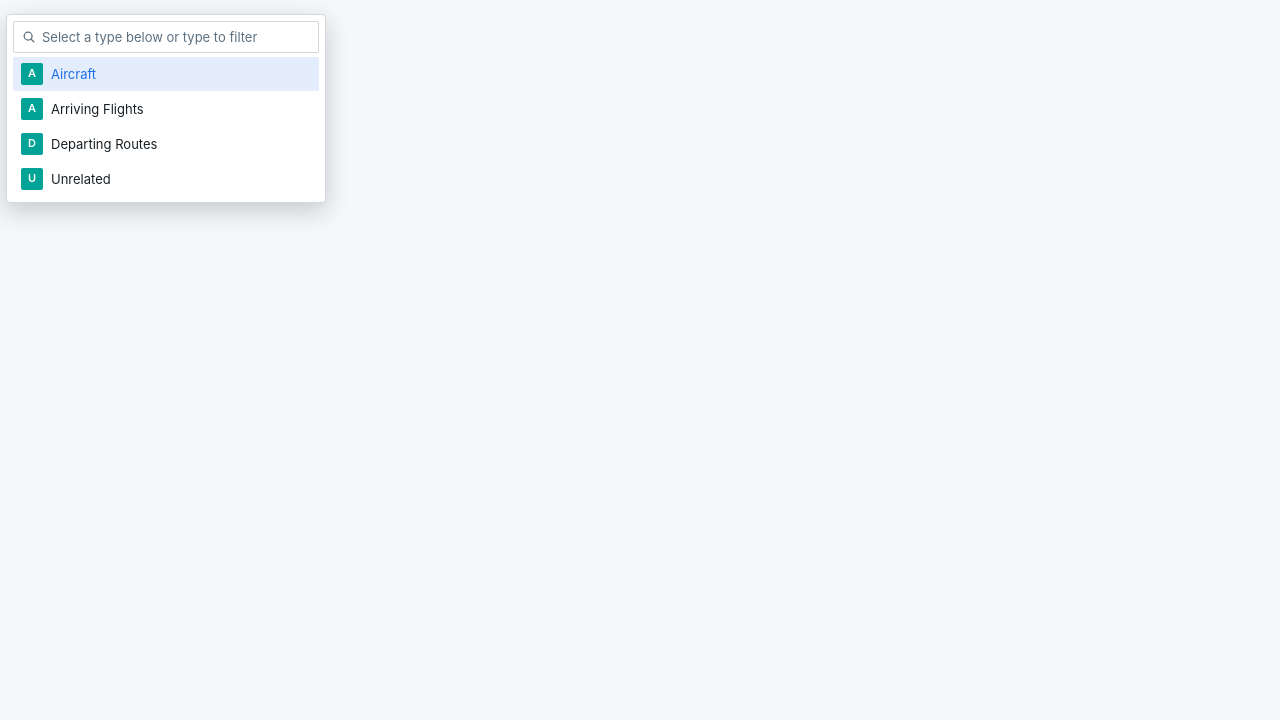
SearchAroundPopover › shows an empty message when no link types match
The image size is (1280, 720).
Type "zzz" into the field with placeholder "Select a type below or type to filter" at (176, 37), box [42, 28, 310, 46]
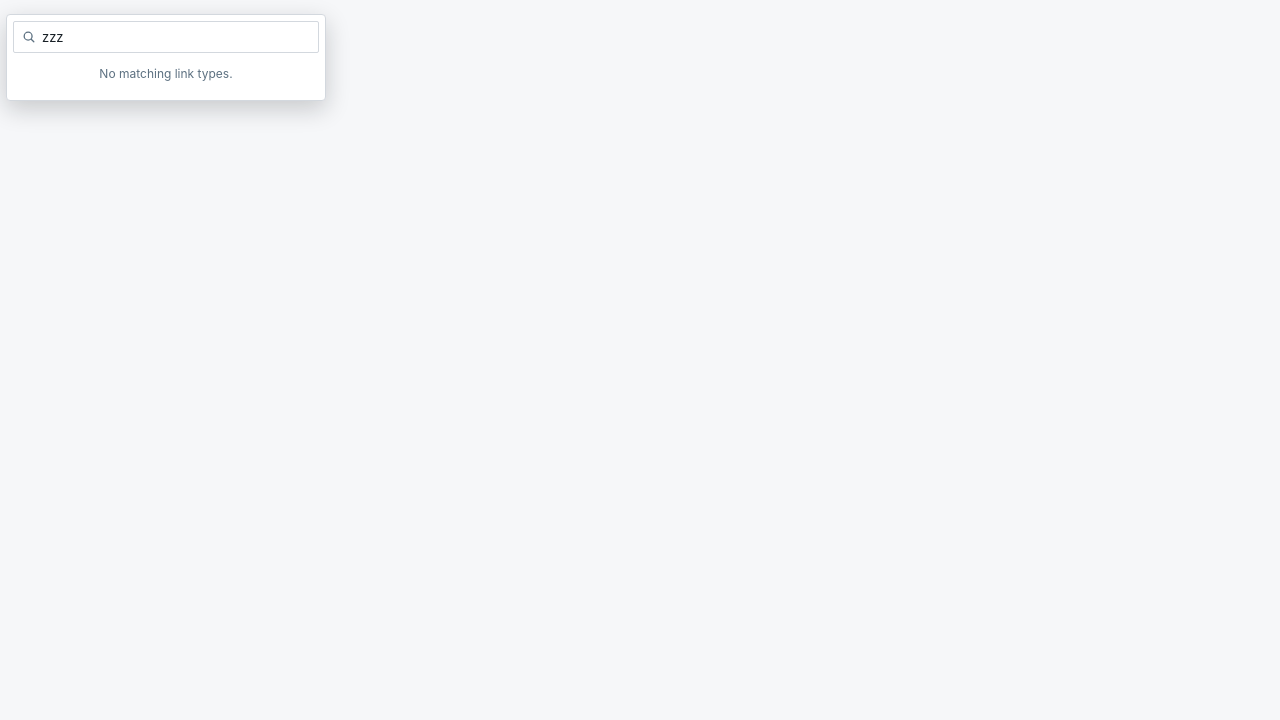
Result: the text "No matching link types." is shown at [99, 66, 233, 81]
